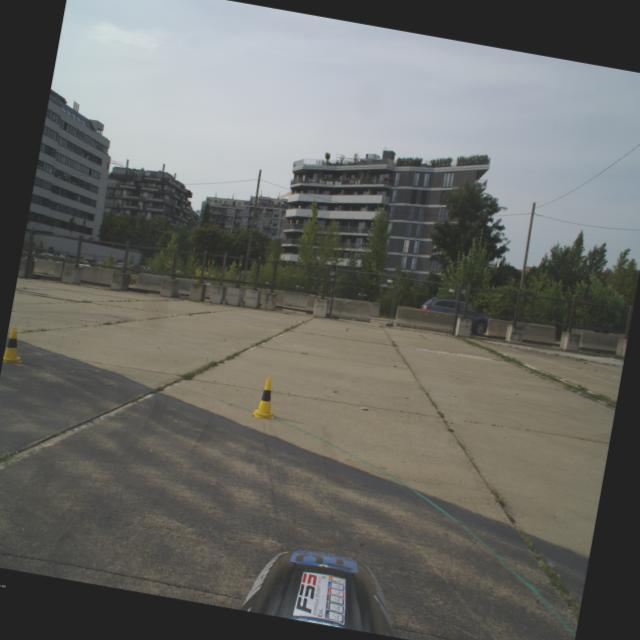yellow_cone: (252, 376, 280, 420), (2, 326, 26, 366)
